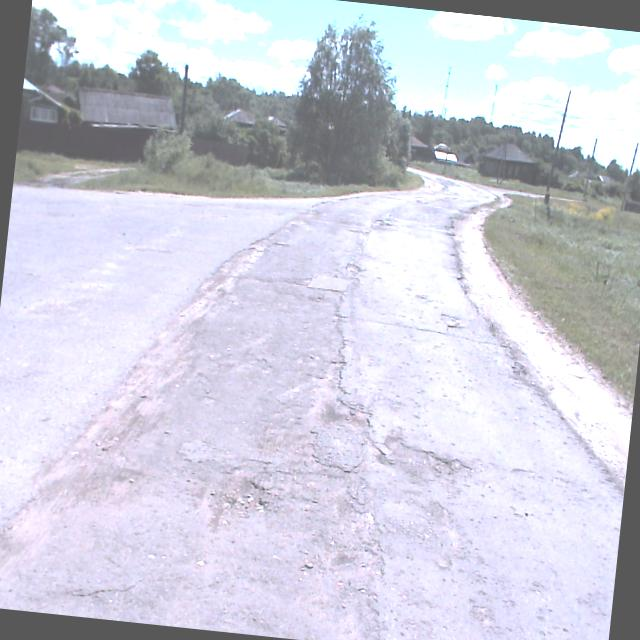road: (0, 167, 623, 640)
